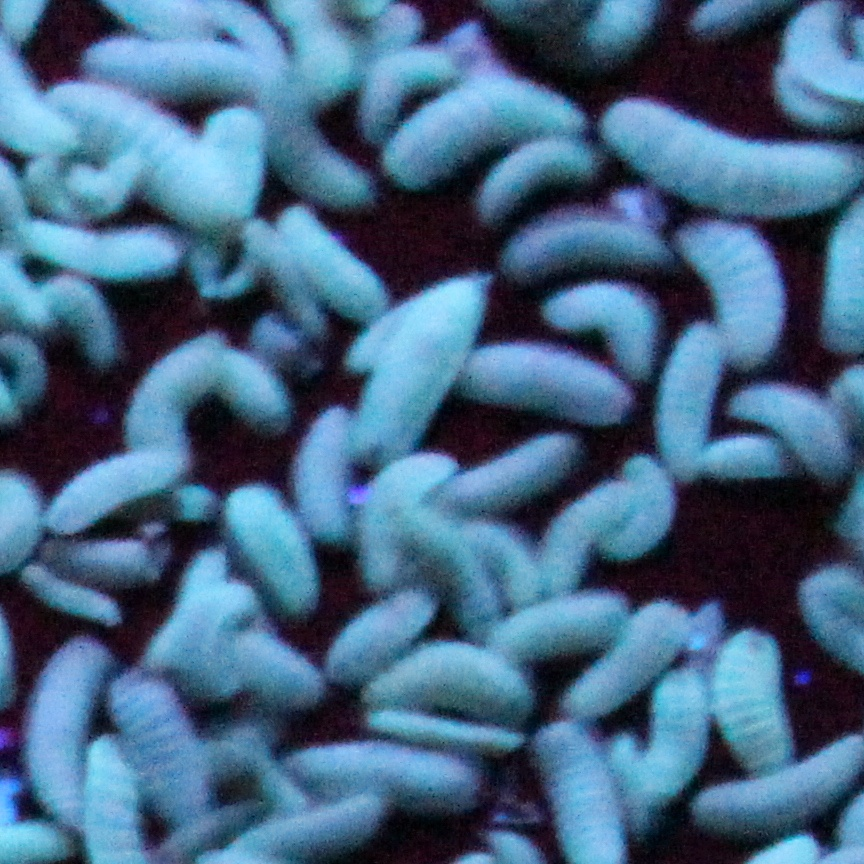larve: (625, 119, 833, 194), (123, 677, 202, 825), (412, 82, 595, 142), (381, 297, 453, 445), (26, 651, 90, 809), (719, 622, 786, 772), (468, 349, 618, 415), (293, 749, 481, 798), (29, 215, 173, 278), (249, 801, 391, 861), (483, 147, 603, 214), (236, 485, 303, 602), (448, 441, 589, 495), (662, 332, 713, 481), (295, 408, 352, 540), (485, 597, 629, 647), (132, 347, 200, 451), (702, 225, 779, 315), (111, 47, 255, 94), (278, 110, 352, 201), (56, 461, 158, 525), (139, 135, 226, 208), (646, 685, 706, 789), (499, 228, 666, 265), (315, 227, 385, 315), (703, 775, 806, 829), (372, 707, 521, 742), (559, 288, 655, 341), (340, 587, 406, 664), (416, 518, 483, 591), (25, 574, 119, 622), (1, 334, 53, 415), (549, 502, 599, 585), (398, 664, 506, 702), (41, 165, 125, 211), (763, 397, 845, 444), (246, 642, 312, 698), (225, 351, 271, 425), (293, 25, 349, 85), (492, 522, 539, 592), (625, 471, 662, 551), (636, 609, 679, 665), (356, 58, 406, 105), (733, 447, 799, 472)
